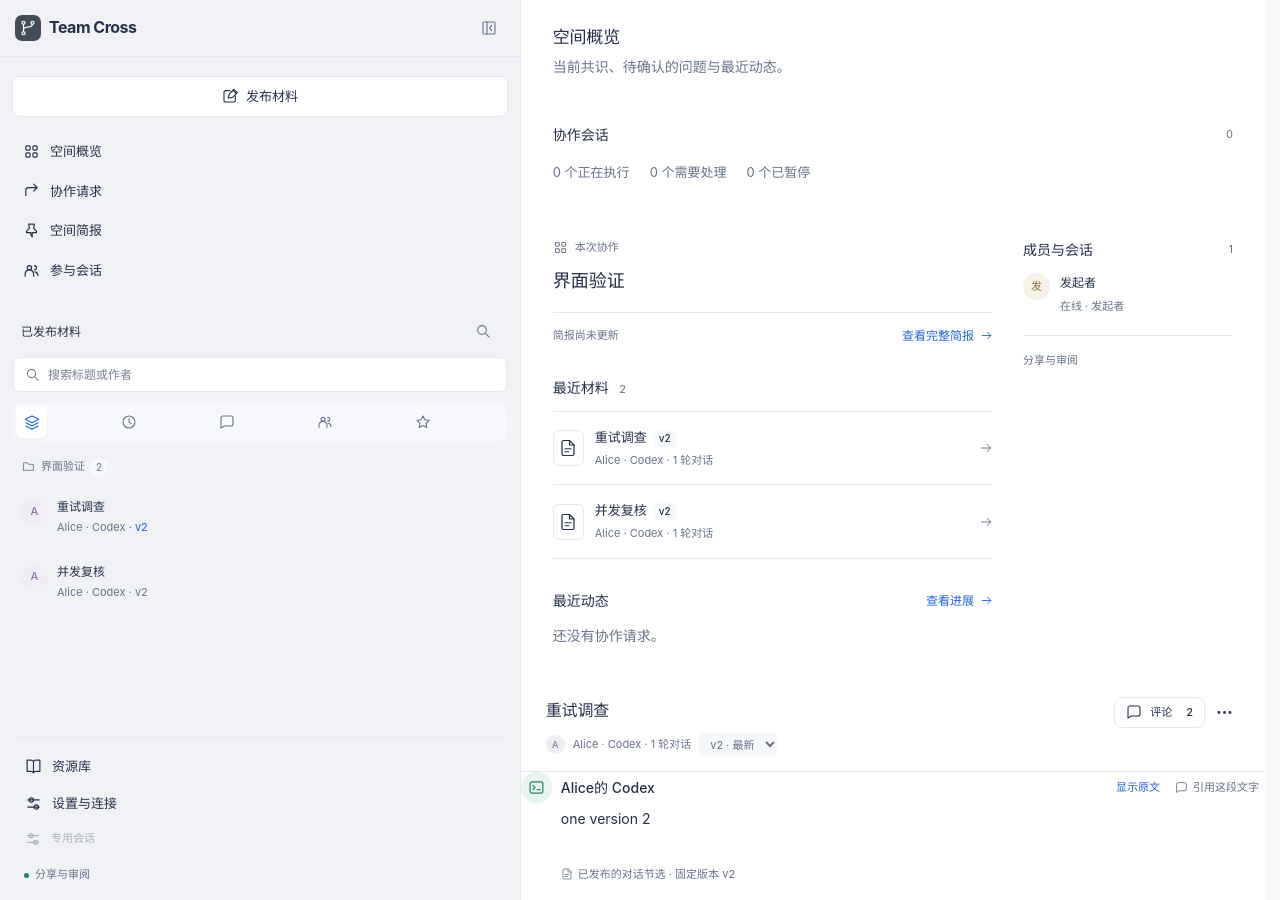
Test case: retains each material's fixed version and cached reading when navigating and filtering
Expected: the text "one version 2" is shown, [561,810,650,827]
Select "v1" in the dropdown named "查看固定版本" at (739, 745), box [699,733,778,756]
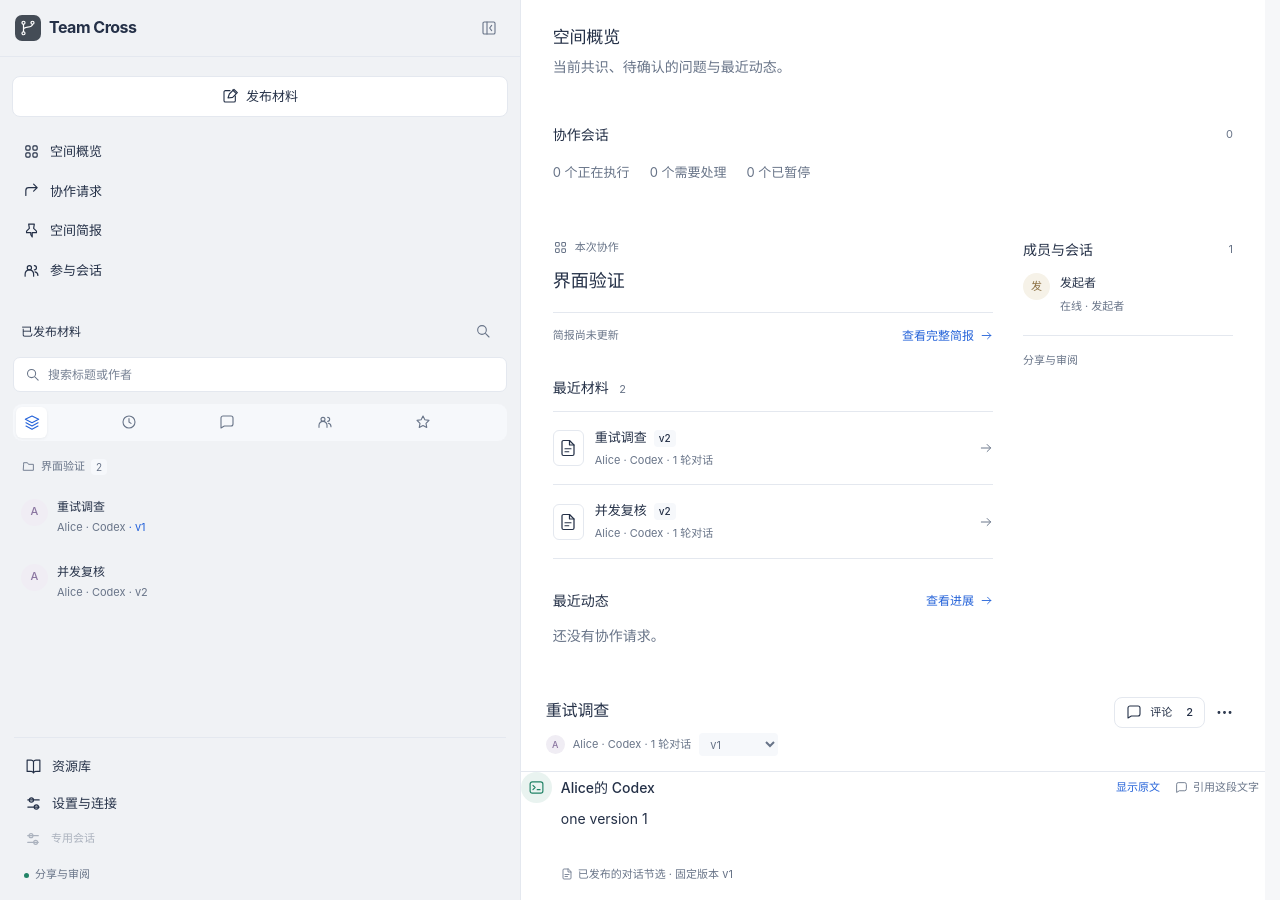
Expected: the text "one version 1" is shown, [561,810,648,827]
Click the button with aria-label "阅读 并发复核".
click(81, 571)  # box [12,551,508,612]
(page scrolled)
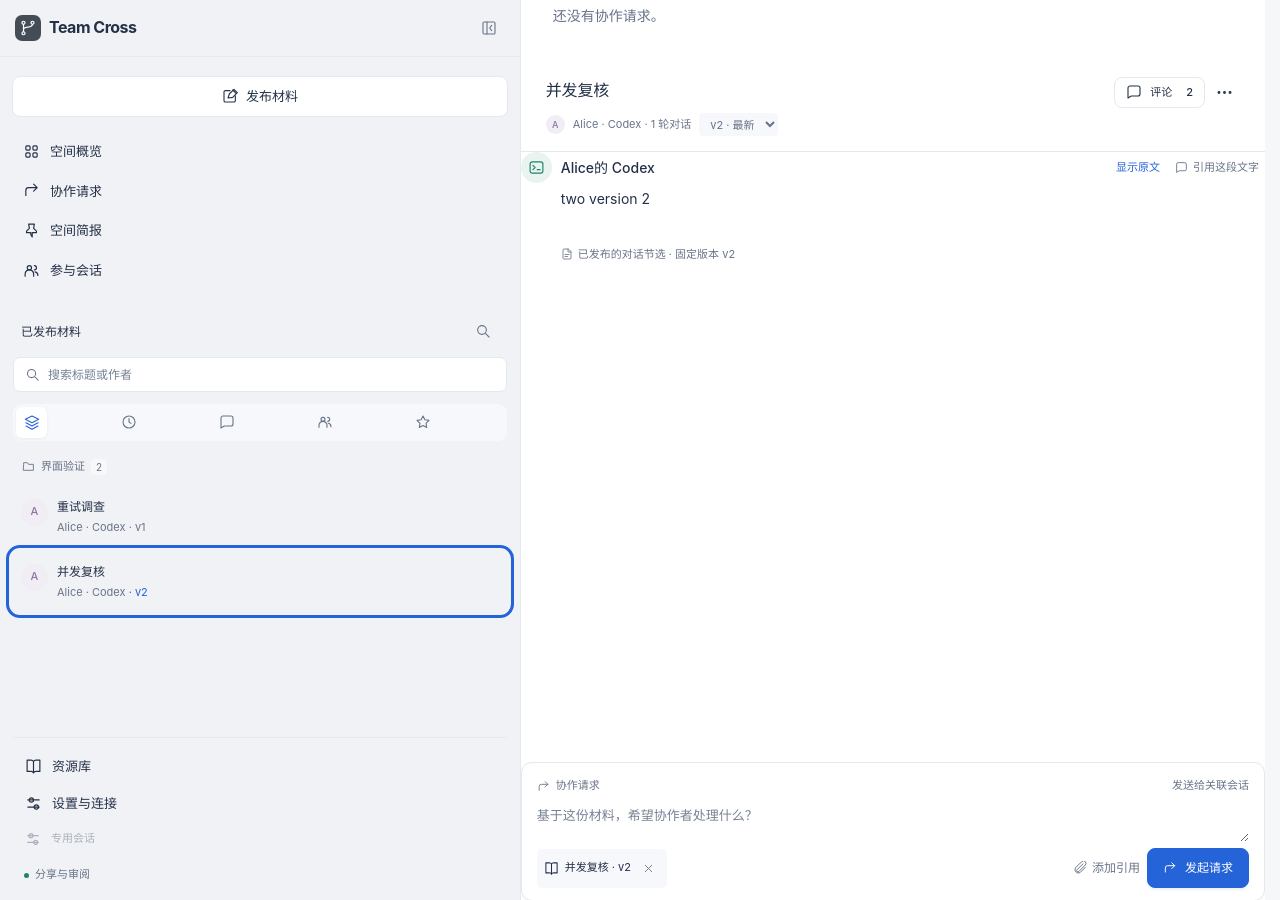
Expected: the text "two version 2" is shown, [561,190,650,207]
Click the button with aria-label "阅读 重试调查".
click(81, 506)  # box [12,486,508,547]
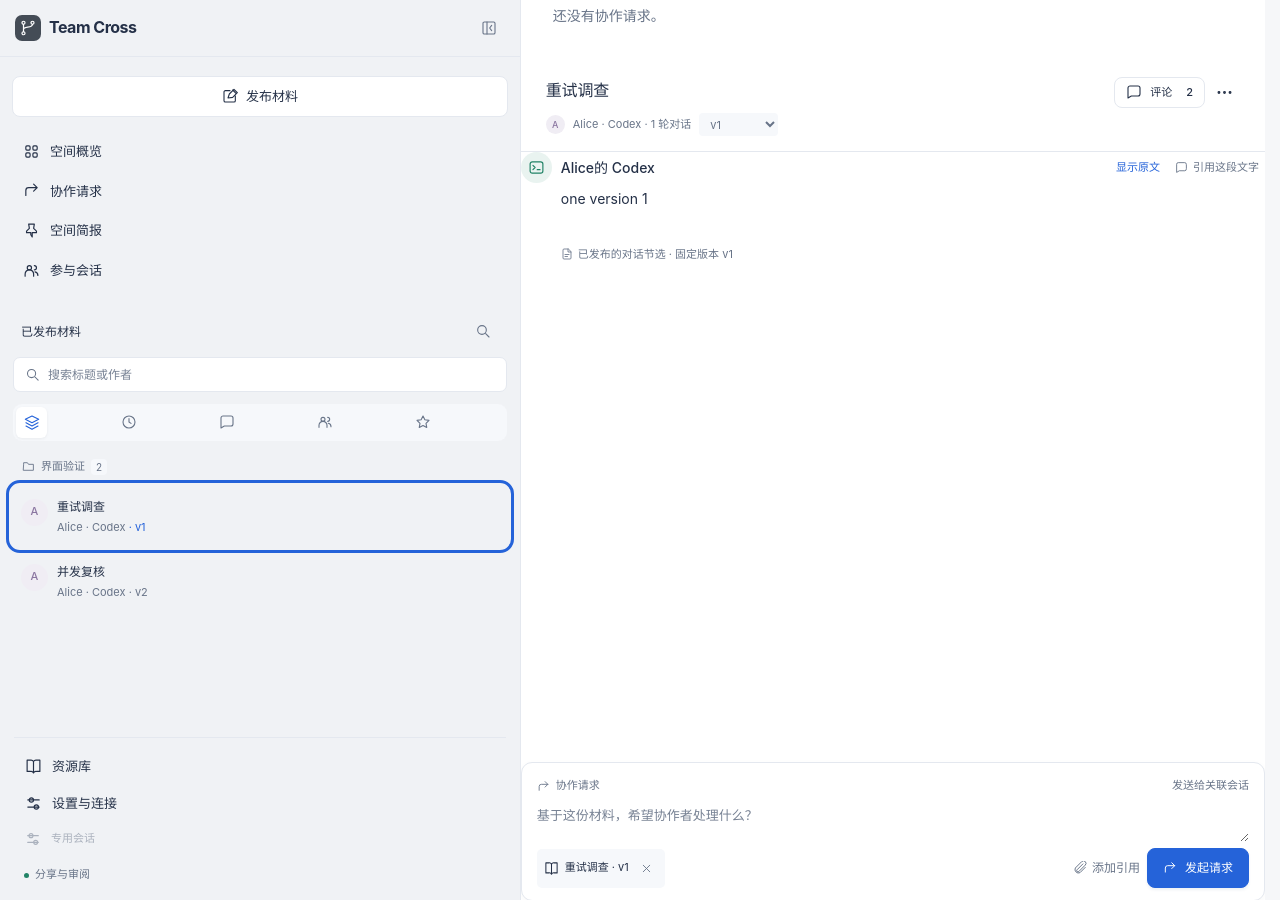
Expected: the dropdown named "查看固定版本" shows "v1", [699,113,778,136]
Expected: the text "one version 1" is shown, [561,190,648,207]
Click the button named "搜索材料".
click(483, 332)  # box [468,316,499,347]
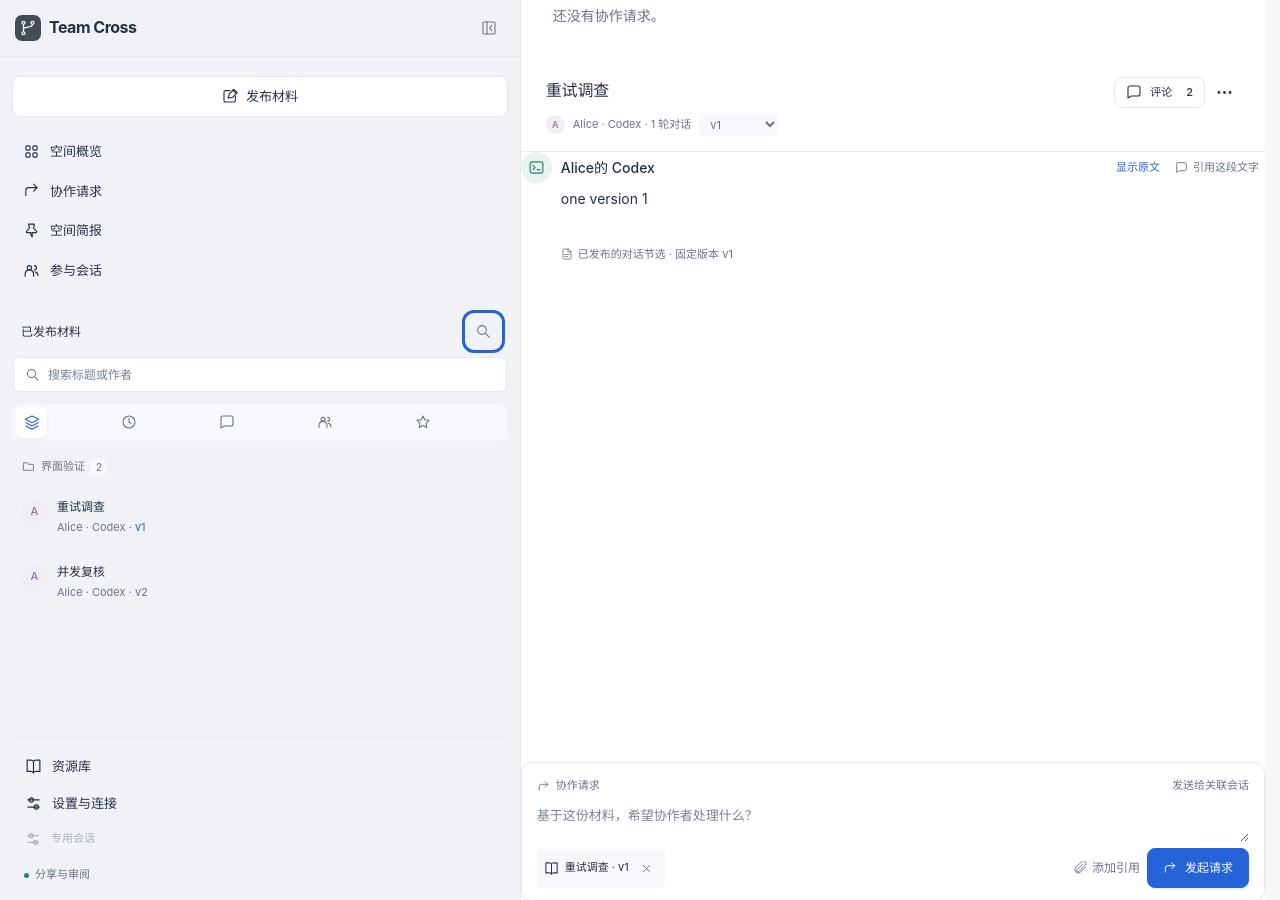
Type "并发" into the search field named "搜索材料标题或作者".
click(271, 374); type("并发")  # box [48,363,495,386]
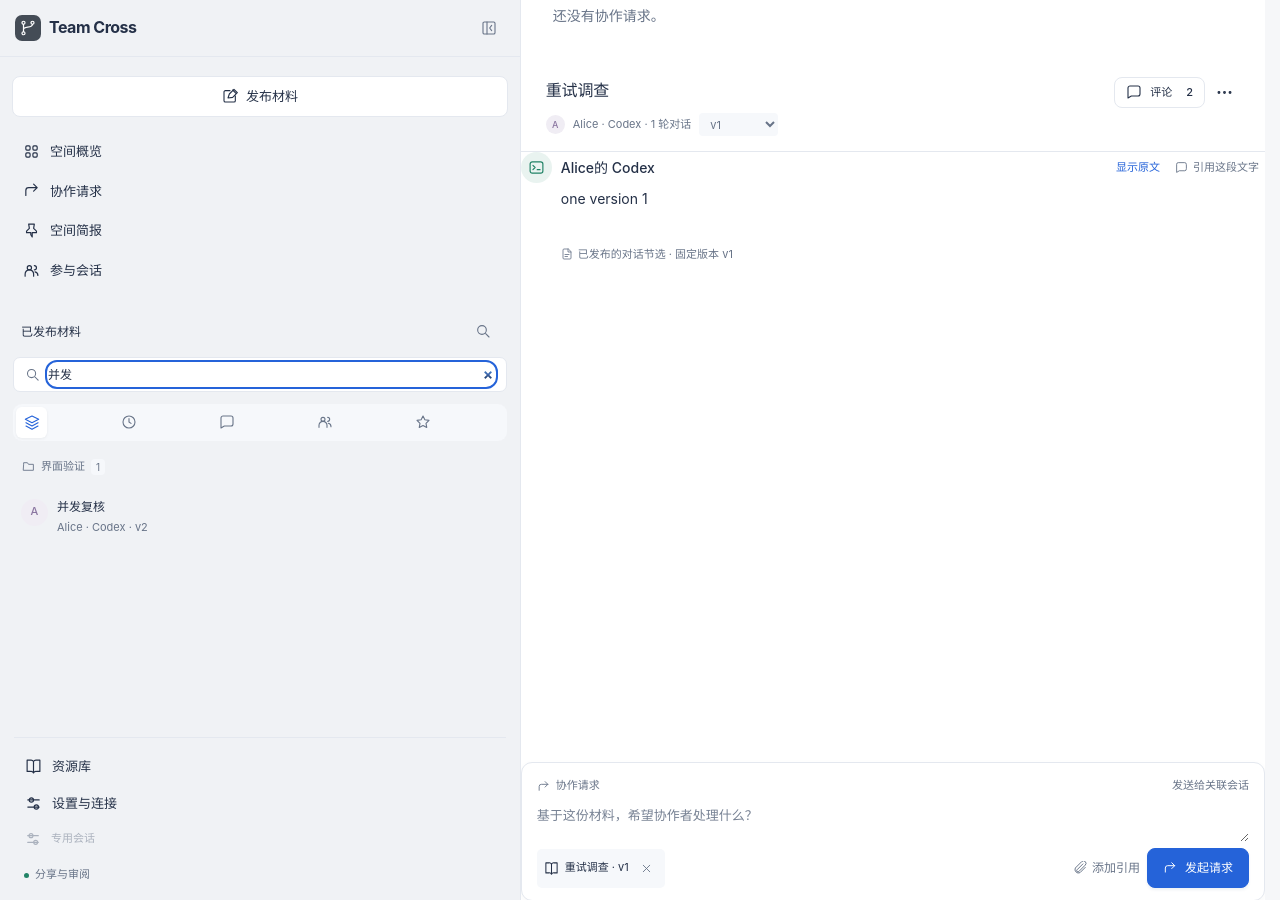
Expected: the text "one version 1" is shown, [561,190,648,207]
Expected: the button "阅读 重试调查" is gone
